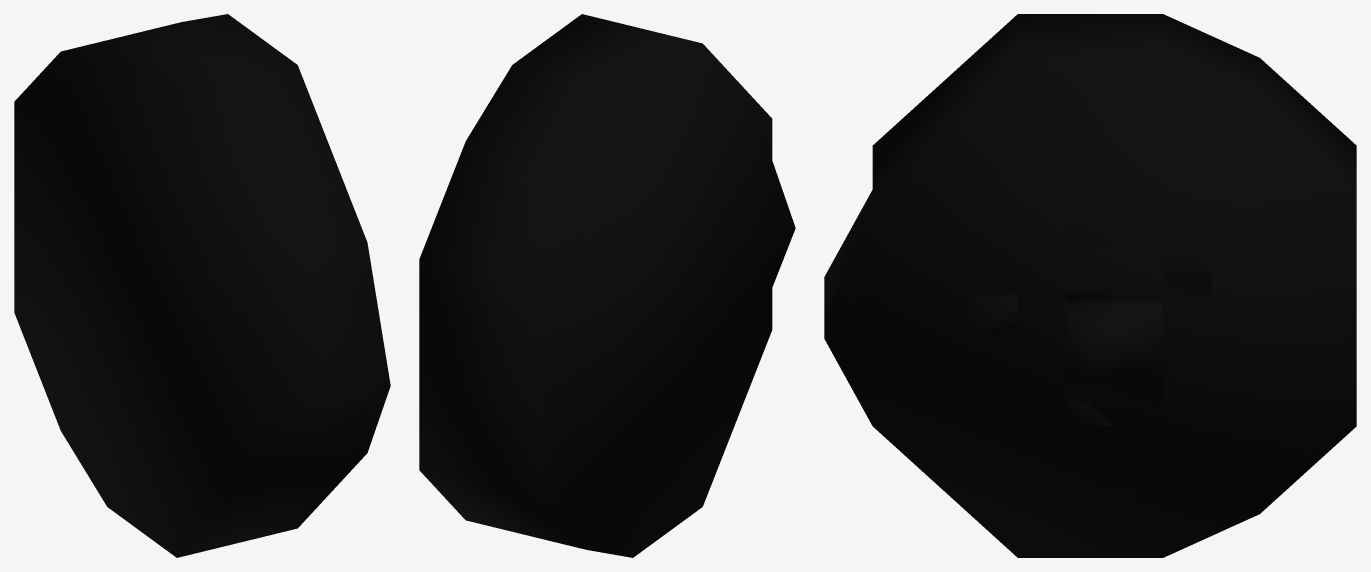
The picture shows the model from 3 angles, left to right: view 1: azimuth 30°, elevation 25°; view 2: azimuth 150°, elevation 25°; view 3: azimuth 270°, elevation 25°; orthographic projection. The views are drawn at different scales.
Bounding box in the file's own units: 0.32 × 0.88 × 0.88.
1 material, 1 textured.
